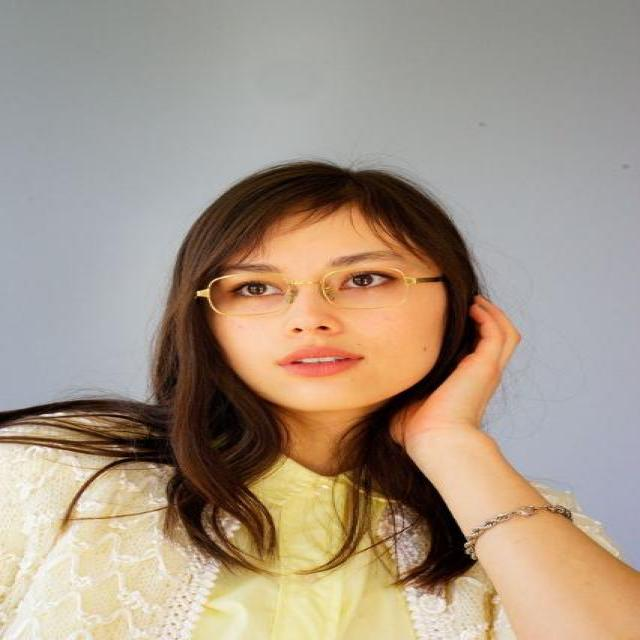glasses: (195, 269, 436, 317)
